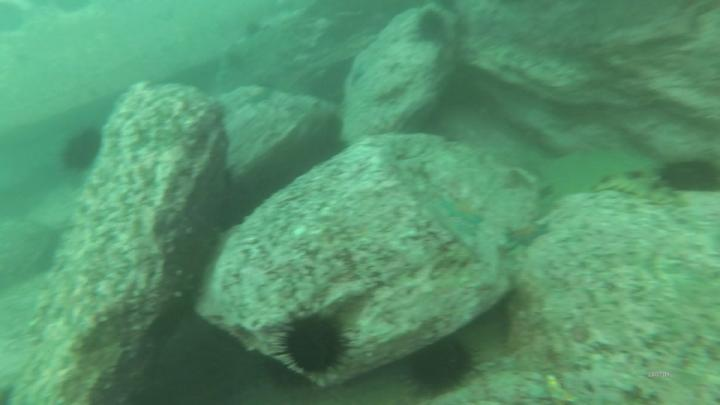echinus: (275, 312, 350, 380), (407, 339, 475, 394), (661, 155, 720, 199), (62, 128, 107, 175), (417, 9, 451, 40)
starfish: (436, 193, 487, 231), (504, 220, 552, 254)
